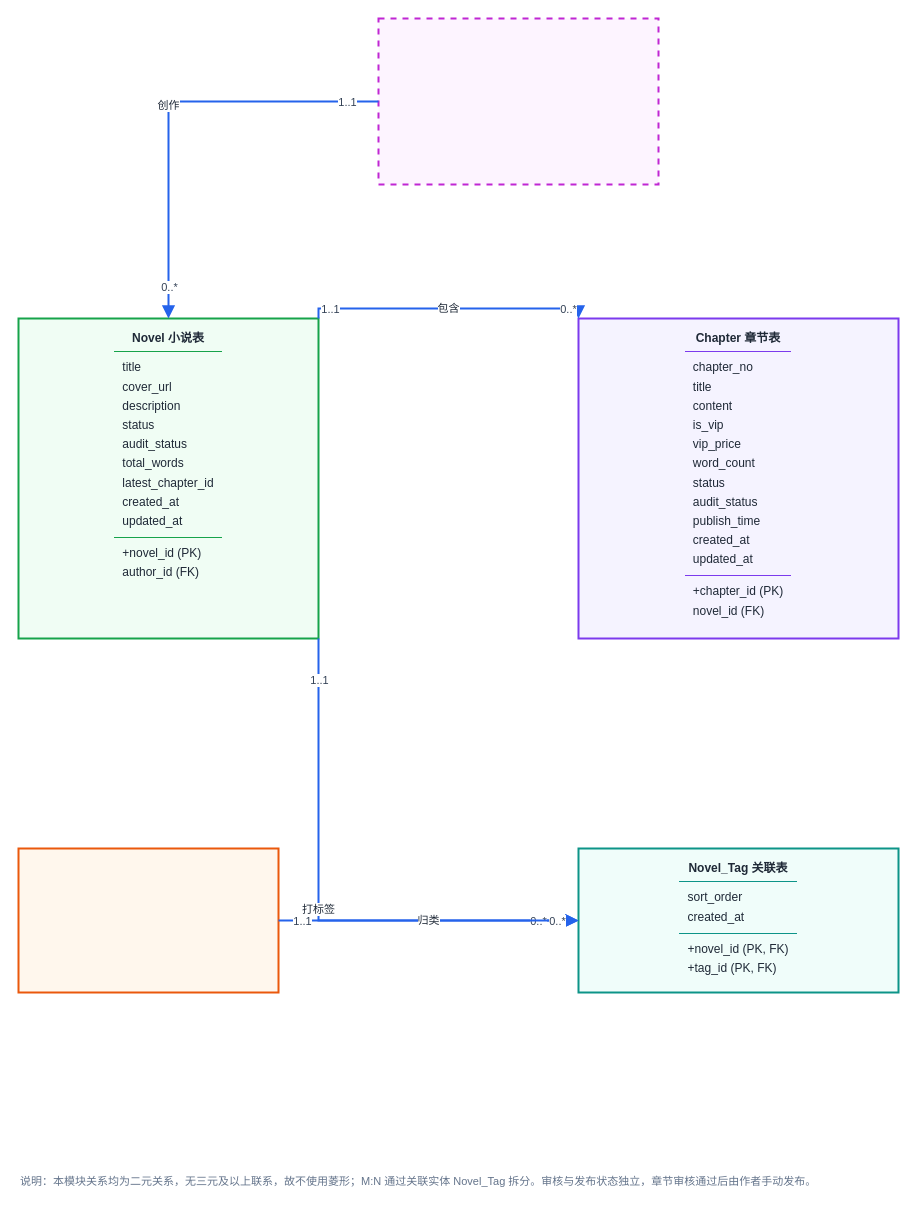
The diagram is 916 pixels wide and 1225 high, and some of its shapes have lost their labels. The shapes that lost their labels are listed below. From the top down, each one's centre as x and y in pixels, then its label:
At point 518,101: "app_user 用户表 username nickname role status +user_id (PK)".
At point 148,920: "Tag 标签表 tag_name is_active created_at +tag_id (PK)".
